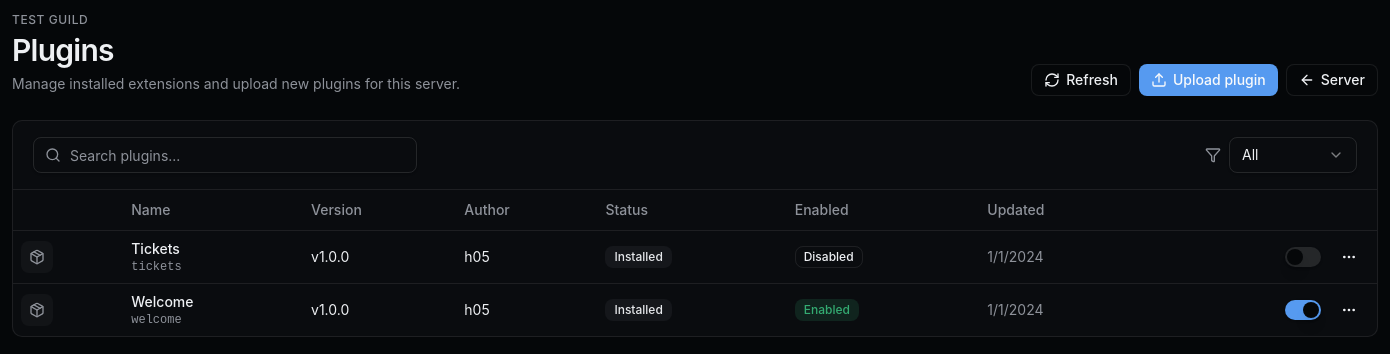
Test: GuildPluginsPage › filters plugins by search term
Expected: the row with test id "plugin-row-welcome" is shown, [13,283,1377,336]
Type "ticket" into the field with placeholder "Search plugins...".
click(225, 155); type("ticket")  # box [33,137,417,173]
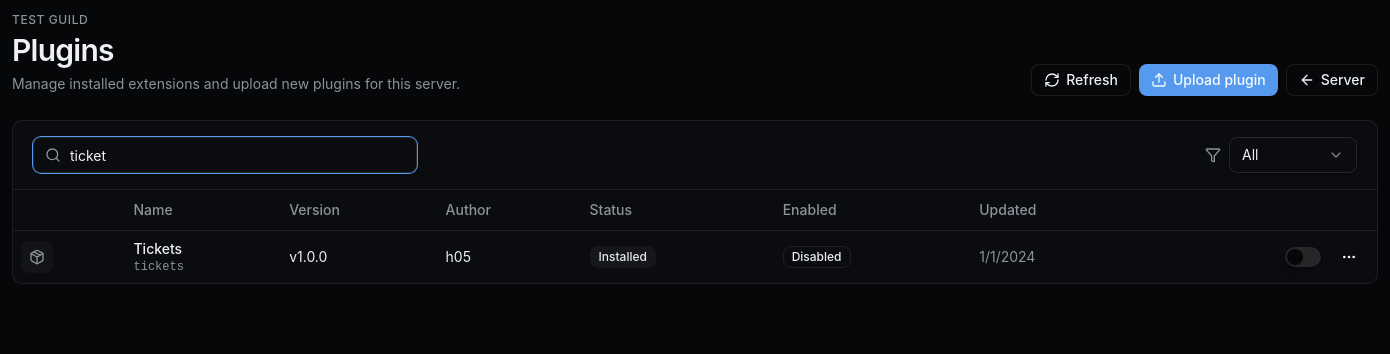
Expected: the row with test id "plugin-row-tickets" is shown, [13,230,1377,282]
